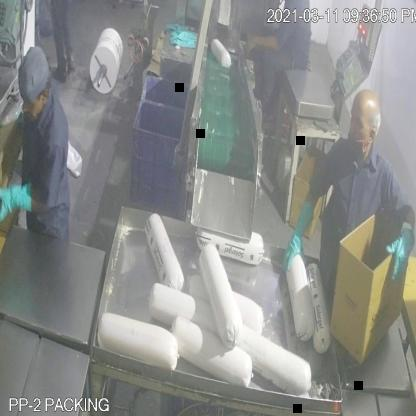glove: (382, 215, 416, 280)
no_glove: (245, 28, 282, 62)
